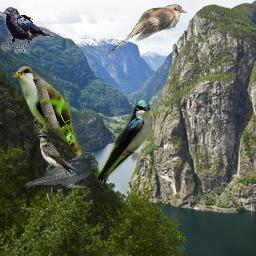Crow: (24, 152, 99, 188), (1, 7, 54, 53)
Cuckoo: (9, 66, 88, 161), (105, 4, 187, 57)
Swallow: (95, 98, 153, 186), (38, 134, 79, 179)
